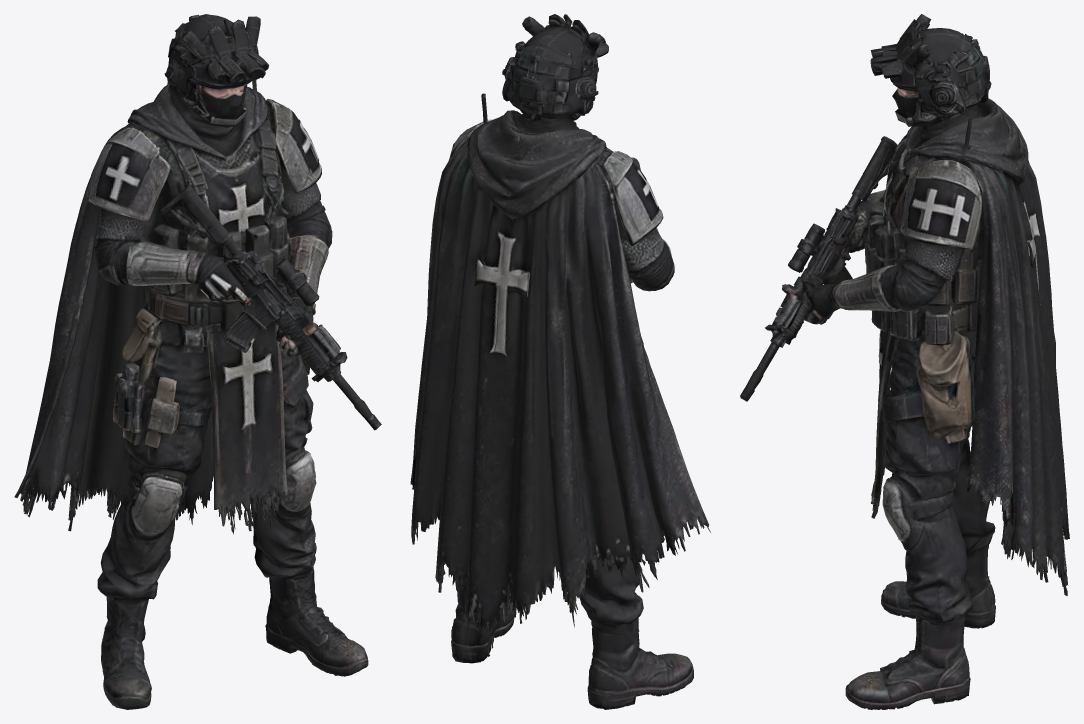
File: black-division-old.glb
3 renders of one model, left to right at view 1: azimuth 30°, elevation 25°; view 2: azimuth 150°, elevation 25°; view 3: azimuth 270°, elevation 25°, orthographic. The views are drawn at different scales.
Visible parts, largest first — view 1: tripo_node_af13a794-12a3-4321-9576-08e7856d33c3; view 2: tripo_node_af13a794-12a3-4321-9576-08e7856d33c3; view 3: tripo_node_af13a794-12a3-4321-9576-08e7856d33c3.
Boxes of the visible parts, <box> form: tripo_node_af13a794-12a3-4321-9576-08e7856d33c3: <box>14,14,381,709</box>; tripo_node_af13a794-12a3-4321-9576-08e7856d33c3: <box>410,14,710,709</box>; tripo_node_af13a794-12a3-4321-9576-08e7856d33c3: <box>740,14,1069,709</box>.
Bounding box in the file's own units: 0.4574 × 0.9792 × 0.4605.
1 material, 1 textured.
